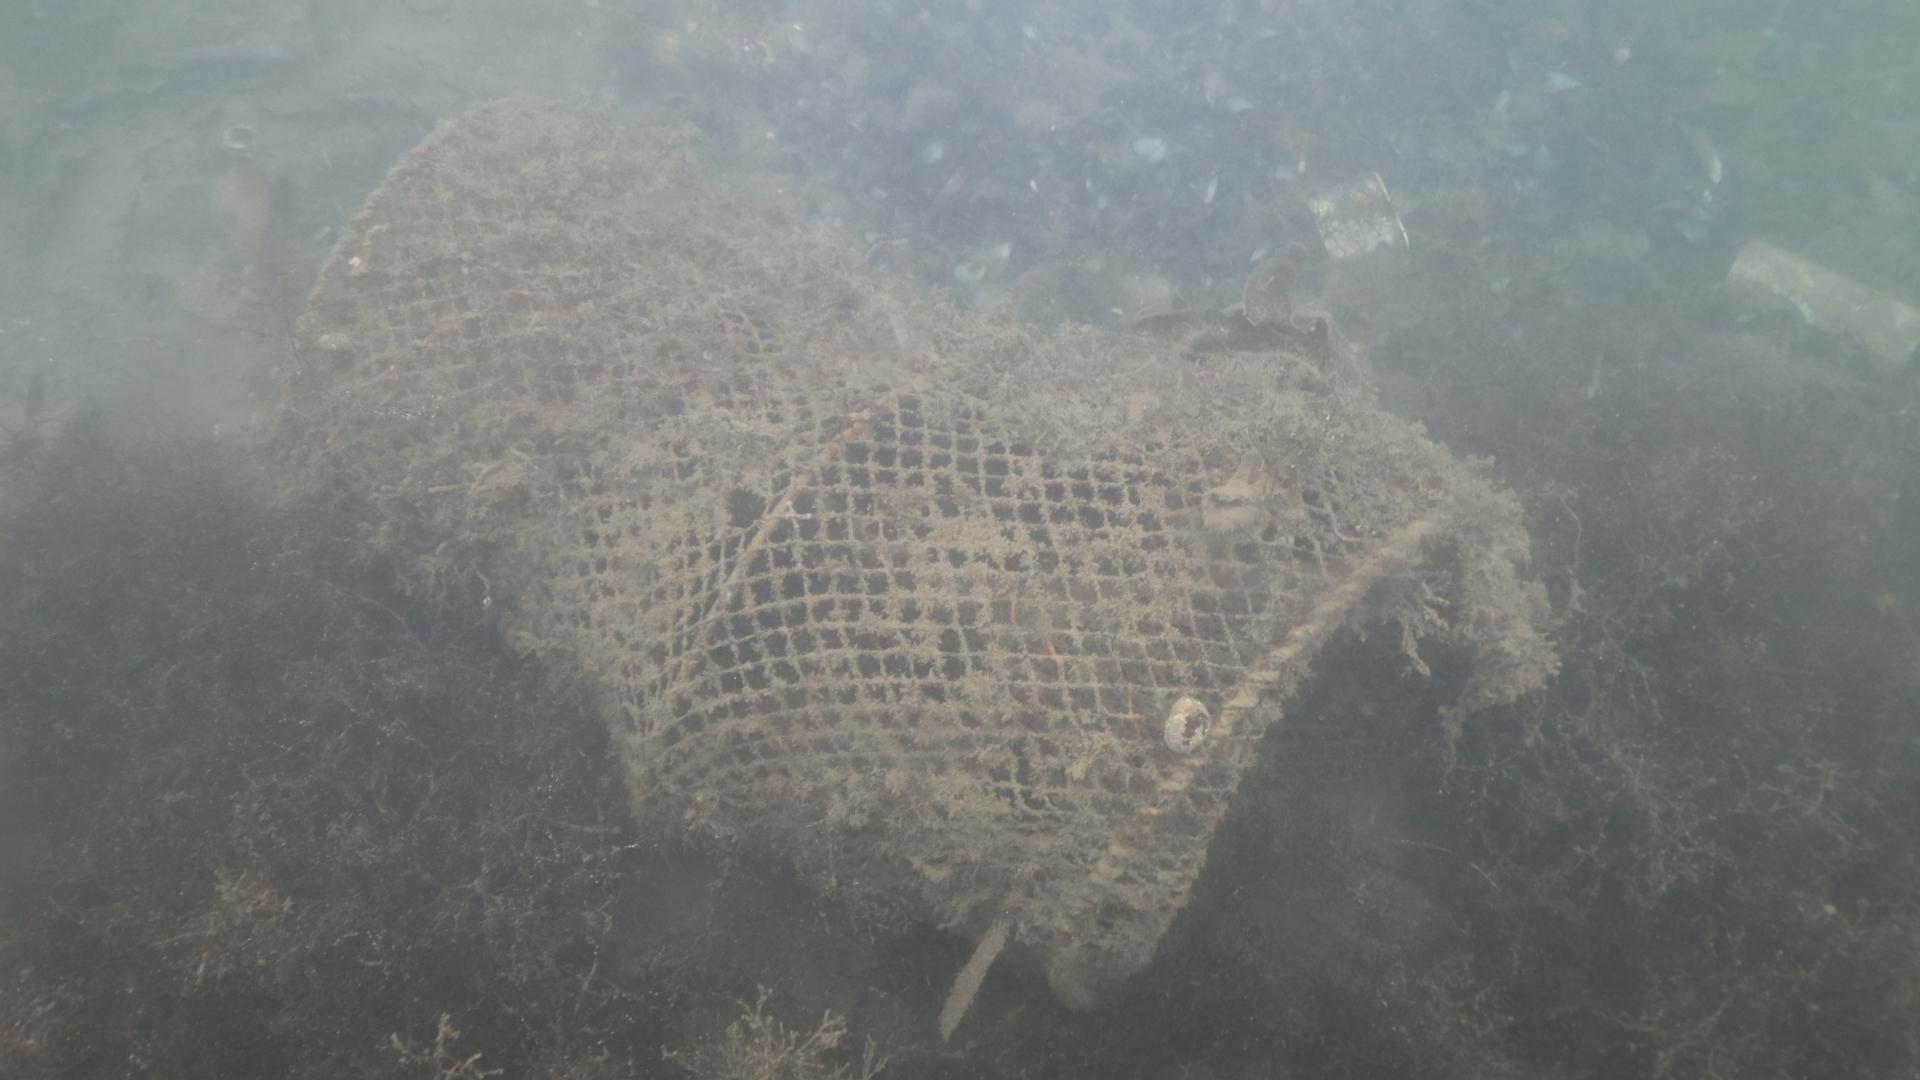spring fish trap: (273, 88, 1487, 1011)
